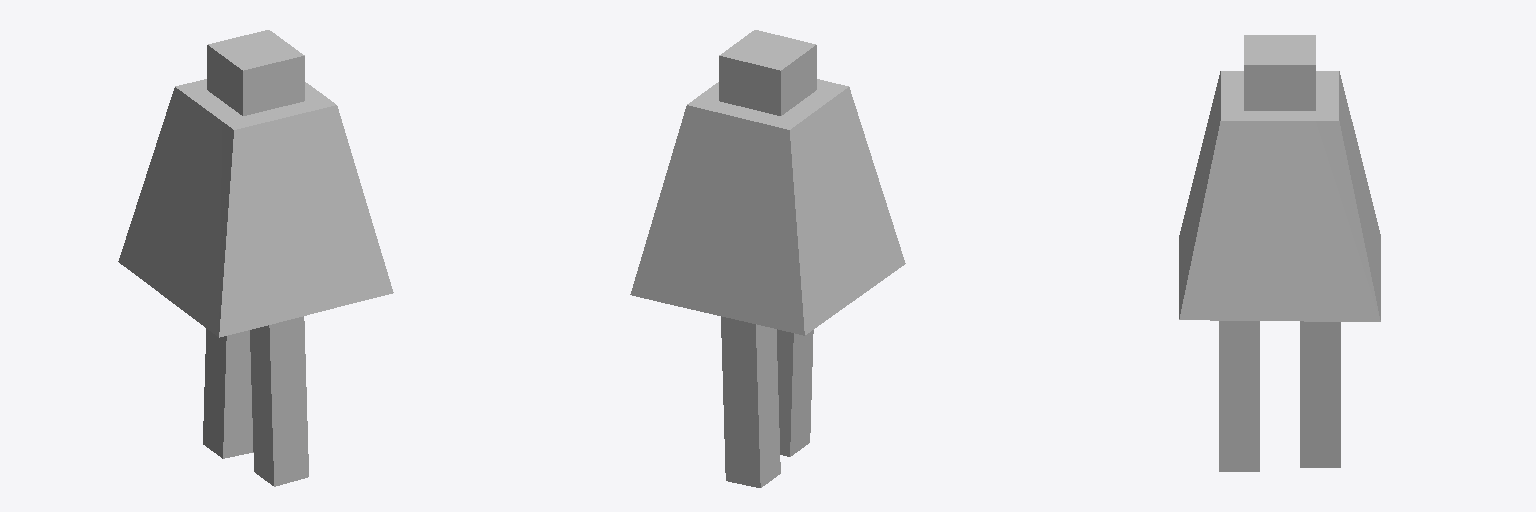
Rendered from essai_000003.obj.
The picture shows the model from 3 angles: view 1: azimuth 30°, elevation 25°; view 2: azimuth 150°, elevation 25°; view 3: azimuth 270°, elevation 25°; orthographic projection.
Parts seen in each view (by area): view 1: Cube; view 2: Cube; view 3: Cube.
Part boxes in pixels (left/top/right/bottom): Cube: left=118, top=30, right=393, bottom=486; Cube: left=630, top=30, right=905, bottom=487; Cube: left=1179, top=35, right=1380, bottom=471.
Bounding box in the file's own units: 2 × 4.51 × 2.